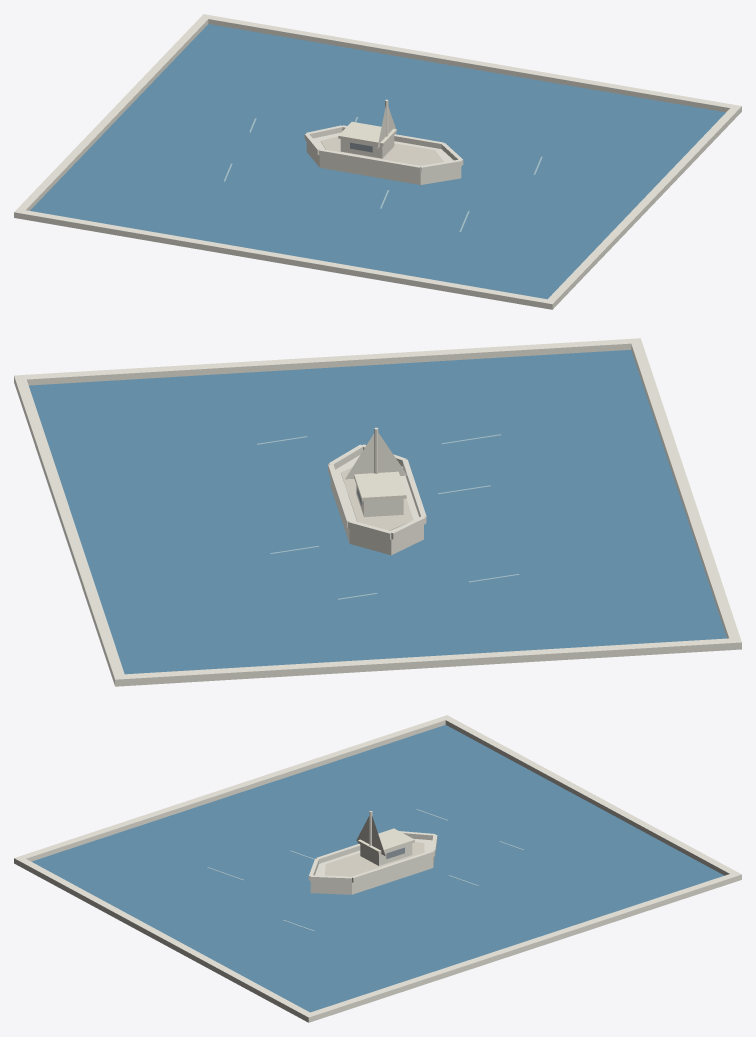
File: water-play.glb
The picture shows the model from 3 angles, top to bottom: view 1: azimuth 30°, elevation 25°; view 2: azimuth 150°, elevation 25°; view 3: azimuth 270°, elevation 25°; orthographic projection. The views are drawn at different scales.
Visible parts, largest first — view 1: Water play rectangular basin and white boat; view 2: Water play rectangular basin and white boat; view 3: Water play rectangular basin and white boat.
Part boxes in pixels (x1=…): Water play rectangular basin and white boat: x1=14, y1=14, x2=741, y2=309; Water play rectangular basin and white boat: x1=14, y1=338, x2=741, y2=686; Water play rectangular basin and white boat: x1=14, y1=715, x2=741, y2=1022.
Bounding box in the file's own units: 40.31 × 3.88 × 41.
